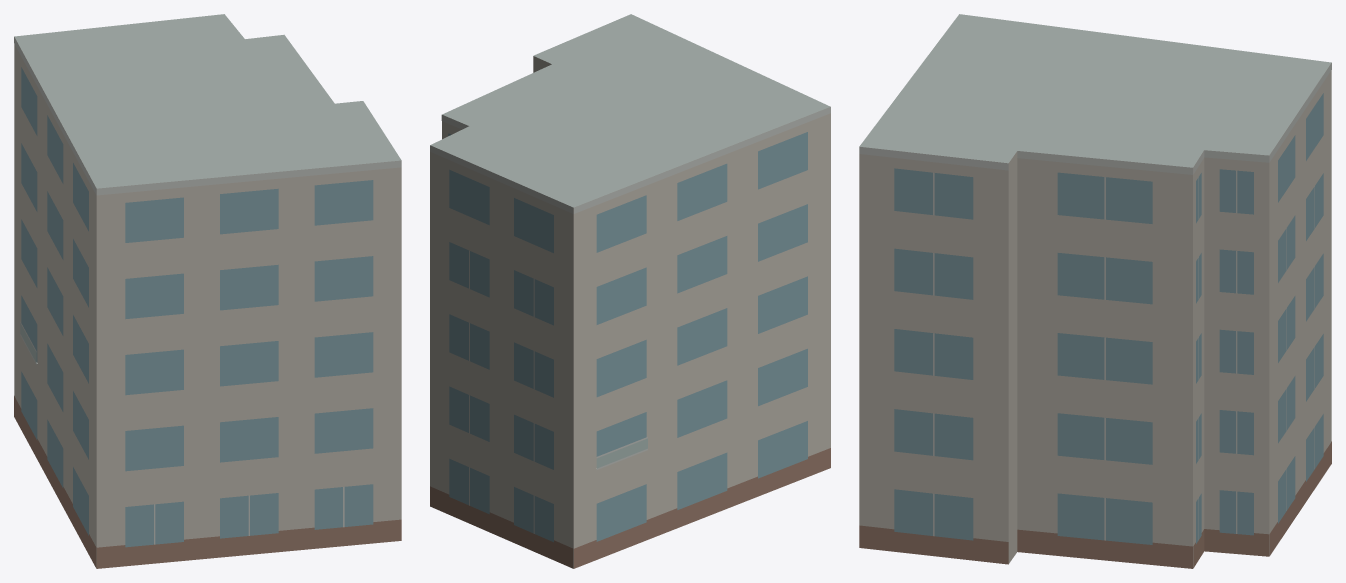
Rendered from survey-upis-32735976.glb.
The picture shows the model from 3 angles, left to right: view 1: azimuth 30°, elevation 25°; view 2: azimuth 150°, elevation 25°; view 3: azimuth 270°, elevation 25°; orthographic projection. The views are drawn at different scales.
Parts seen in each view (by area): view 1: survey-upis-32735976.tmp; view 2: survey-upis-32735976.tmp; view 3: survey-upis-32735976.tmp.
Part boxes in pixels (x1,y1,x2,y2): survey-upis-32735976.tmp: (14, 14, 401, 568); survey-upis-32735976.tmp: (430, 14, 830, 568); survey-upis-32735976.tmp: (859, 14, 1331, 568).
Bounding box in the file's own units: 11.11 × 13.5 × 14.42.
